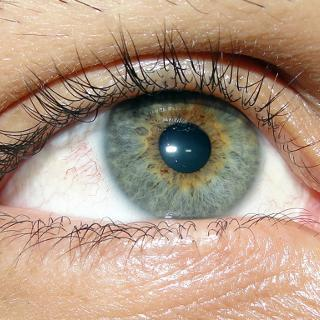pupil: (160, 121, 211, 173)
